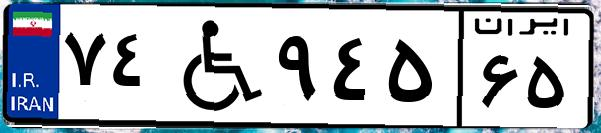4: (330, 28, 385, 110), (110, 28, 158, 98)
5: (385, 28, 445, 110), (525, 38, 570, 115)
6: (475, 38, 525, 113)
7: (57, 26, 110, 100)
9: (270, 28, 330, 110)
ژ (معلولین و جانبازان): (158, 12, 270, 120)
